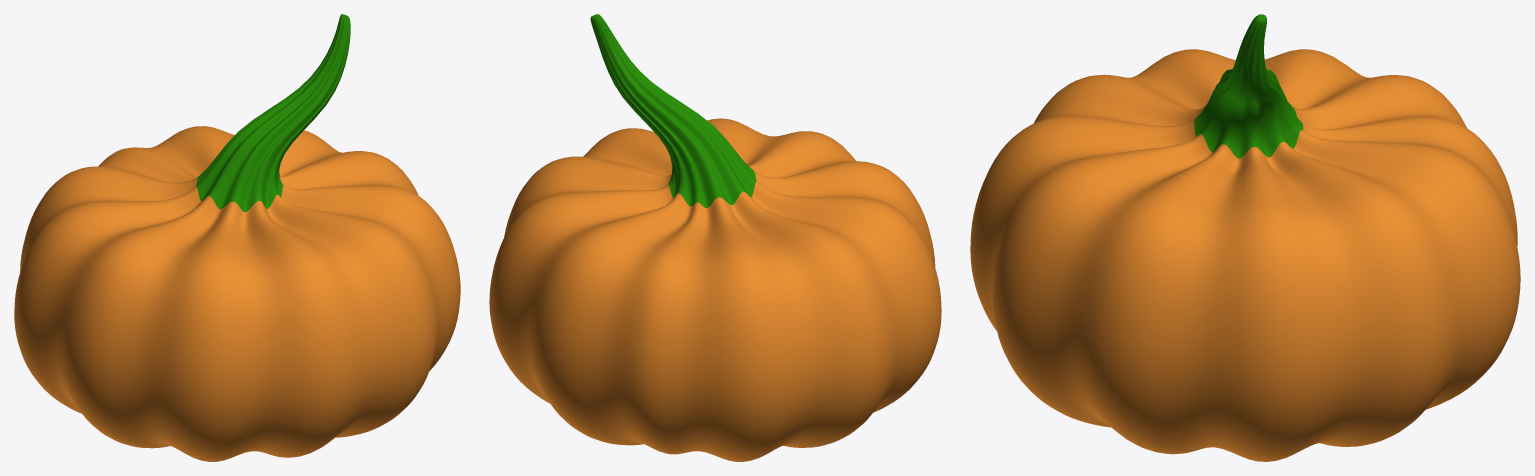
The model's file is pumpkinJ.fbx.
3 views of the same model, side by side, from view 1: azimuth 30°, elevation 25°; view 2: azimuth 150°, elevation 25°; view 3: azimuth 270°, elevation 25° (orthographic). The views are drawn at different scales.
Parts seen in each view (by area): view 1: Sphere; view 2: Sphere; view 3: Sphere.
Boxes of the visible parts, x1,y1,x2,y2 form: Sphere: (14, 14, 460, 461); Sphere: (489, 14, 941, 461); Sphere: (970, 14, 1520, 461).
Size of the model in its own units: 187 by 174 by 188.
